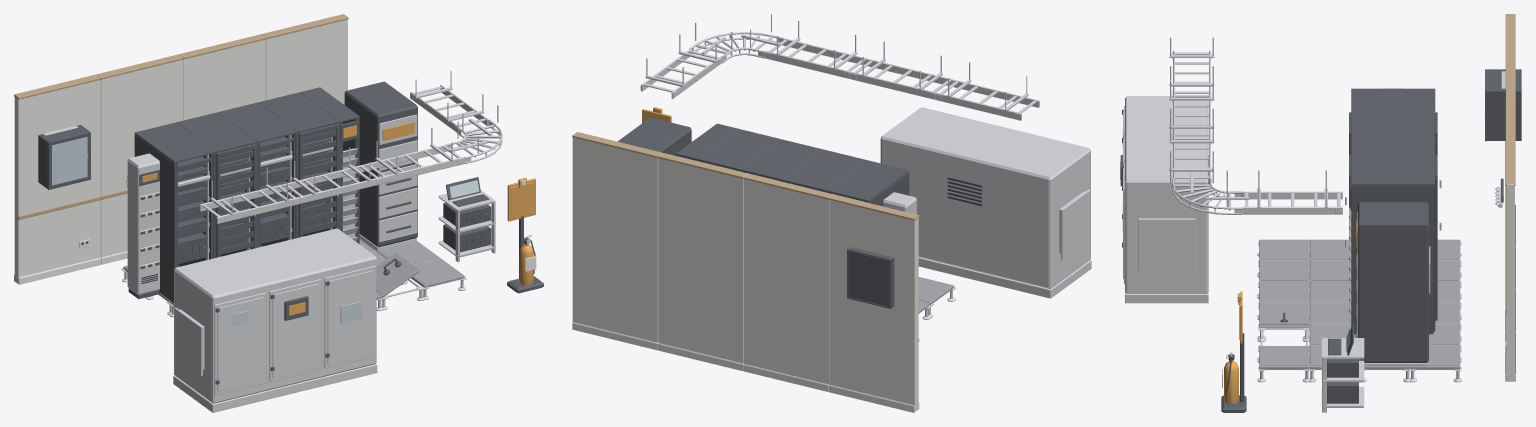
Rendered from office-lobby-and-facilities-comms-room-cf8b9842__26336.glb.
The picture shows the model from 3 angles, left to right: view 1: azimuth 30°, elevation 25°; view 2: azimuth 150°, elevation 25°; view 3: azimuth 270°, elevation 25°; orthographic projection. The views are drawn at different scales.
Visible parts, largest first — view 1: 042-plant-air-handling-unit/0, 024-corridor-wall-module/0, 025-corridor-wall-module/0, 028-server-rack-42u-open/0, 027-corridor-wall-module/0, 033-ups-cabinet/0, 026-corridor-wall-module/0, 030-server-rack-42u-open/0, 034-floor-pdu/0, 033-ups-cabinet/1, 029-server-rack-42u-doors/0, 031-server-rack-42u-doors/0 (+26 smaller); view 2: 042-plant-air-handling-unit/0, 027-corridor-wall-module/0, 026-corridor-wall-module/0, 025-corridor-wall-module/0, 024-corridor-wall-module/0, 035-comms-cabinet-wall/0, 028-server-rack-42u-open/0, 037-cable-ladder-run/0, 030-server-rack-42u-open/0, 031-server-rack-42u-doors/0, 029-server-rack-42u-doors/0, 038-cable-ladder-run/0 (+12 smaller); view 3: 042-plant-air-handling-unit/0, 033-ups-cabinet/0, 032-in-row-cooling-unit/0, 041-cable-ladder-run/0, 035-comms-cabinet-wall/0, 027-corridor-wall-module/0, 030-server-rack-42u-open/0, 028-server-rack-42u-open/0, 031-server-rack-42u-doors/0, 029-server-rack-42u-doors/0, 044-server-rack-shelf-unit/1, 044-server-rack-shelf-unit/0 (+28 smaller).
Boxes of the visible parts, x1,y1,x2,y2 form: 042-plant-air-handling-unit/0: (173,228,377,412); 024-corridor-wall-module/0: (14,80,101,284); 025-corridor-wall-module/0: (100,60,183,264); 028-server-rack-42u-open/0: (134,122,215,302); 027-corridor-wall-module/0: (265,19,347,104); 033-ups-cabinet/0: (344,81,417,247); 026-corridor-wall-module/0: (183,39,265,120); 030-server-rack-42u-open/0: (217,102,297,247); 034-floor-pdu/0: (127,153,159,294); 033-ups-cabinet/1: (359,114,417,251); 029-server-rack-42u-doors/0: (176,112,256,257); 031-server-rack-42u-doors/0: (259,92,338,237); 042-plant-air-handling-unit/0: (880,107,1091,298); 027-corridor-wall-module/0: (572,137,658,350); 026-corridor-wall-module/0: (657,158,743,370); 025-corridor-wall-module/0: (743,179,829,391); 024-corridor-wall-module/0: (829,200,919,412); 035-comms-cabinet-wall/0: (847,247,894,308); 028-server-rack-42u-open/0: (825,160,909,206); 037-cable-ladder-run/0: (935,62,1039,120); 030-server-rack-42u-open/0: (740,139,823,181); 031-server-rack-42u-doors/0: (697,128,780,171); 029-server-rack-42u-doors/0: (783,149,866,192); 038-cable-ladder-run/0: (850,41,953,99); 042-plant-air-handling-unit/0: (1123,96,1208,303); 033-ups-cabinet/0: (1355,202,1428,362); 032-in-row-cooling-unit/0: (1350,173,1435,334); 041-cable-ladder-run/0: (1242,170,1342,214); 035-comms-cabinet-wall/0: (1486,69,1521,140); 027-corridor-wall-module/0: (1505,184,1515,381); 030-server-rack-42u-open/0: (1351,131,1435,152); 028-server-rack-42u-open/0: (1351,88,1435,109); 031-server-rack-42u-doors/0: (1351,152,1435,173); 029-server-rack-42u-doors/0: (1351,110,1435,130); 044-server-rack-shelf-unit/1: (1327,325,1358,403); 044-server-rack-shelf-unit/0: (1321,337,1364,412).
Bounding box in the file's own units: 5.7 × 2.66 × 4.78.
